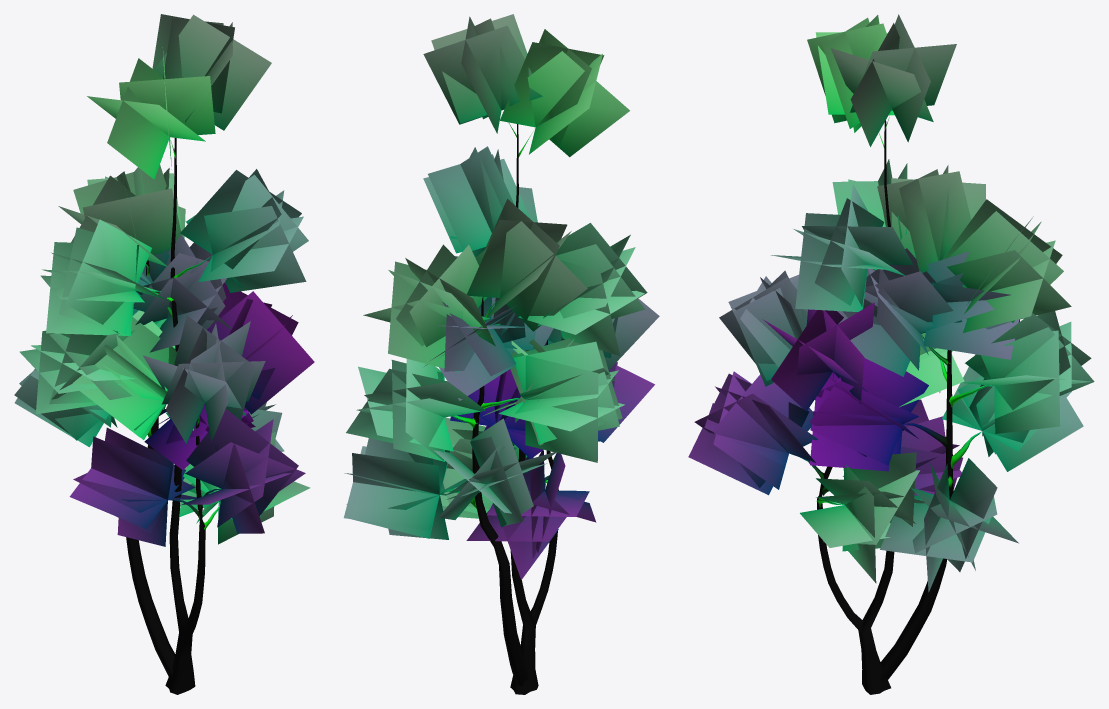
File: M_P6_Tree_5.fbx
The picture shows the model from 3 angles, left to right: view 1: azimuth 30°, elevation 25°; view 2: azimuth 150°, elevation 25°; view 3: azimuth 270°, elevation 25°; orthographic projection. The views are drawn at different scales.
Parts seen in each view (by area): view 1: Tree_5; view 2: Tree_5; view 3: Tree_5.
Boxes of the visible parts, bbox=[...] form: Tree_5: bbox=[14, 14, 314, 694]; Tree_5: bbox=[343, 14, 659, 694]; Tree_5: bbox=[688, 14, 1094, 694].
Size of the model in its own units: 494 by 1258 by 684.
